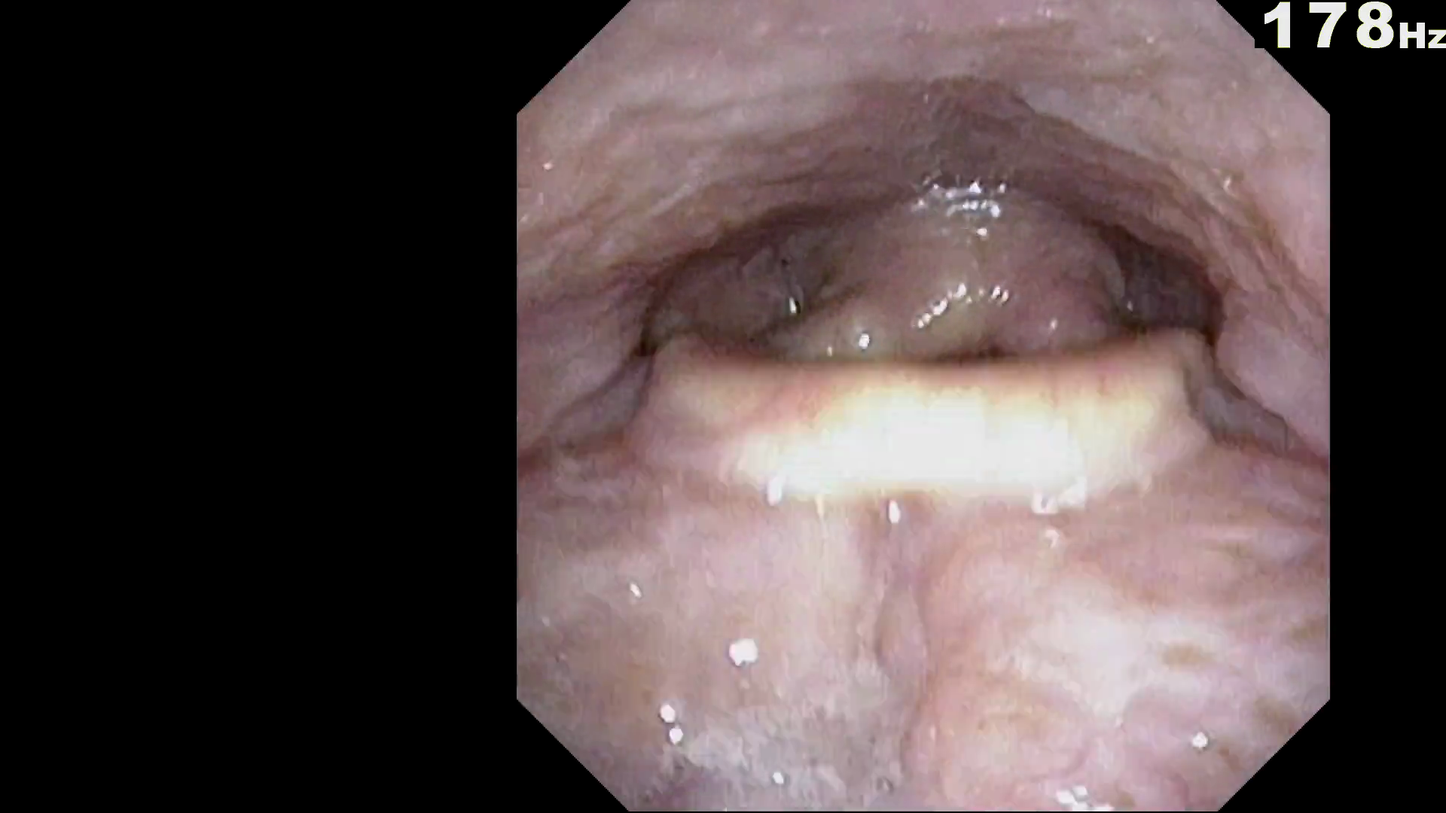epiglottis: (629, 333, 1227, 538)
trachea: (868, 269, 1025, 465)
